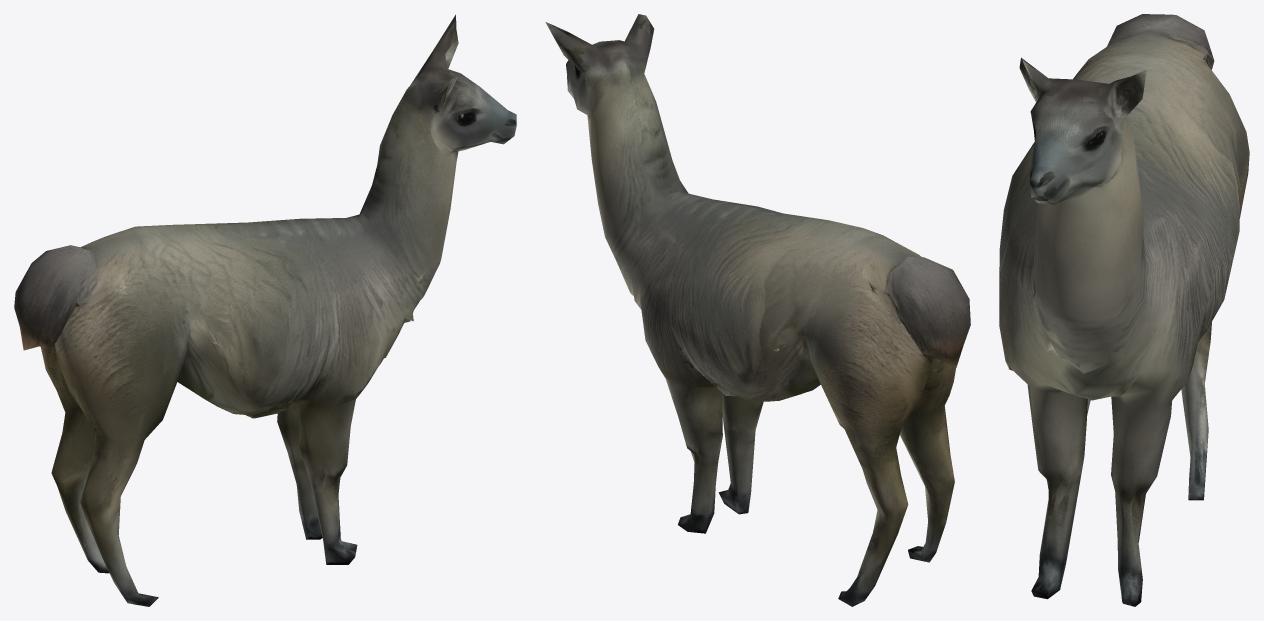
File: llama_gray_single_1500.glb
3 views of the same model, side by side, from view 1: azimuth 30°, elevation 25°; view 2: azimuth 150°, elevation 25°; view 3: azimuth 270°, elevation 25° (orthographic). The views are drawn at different scales.
Bounding box in the file's own units: 0.8367 × 0.8767 × 0.3121.
1 material, 1 textured.
